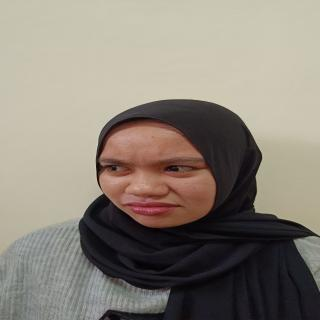Marah: (97, 119, 230, 236)
